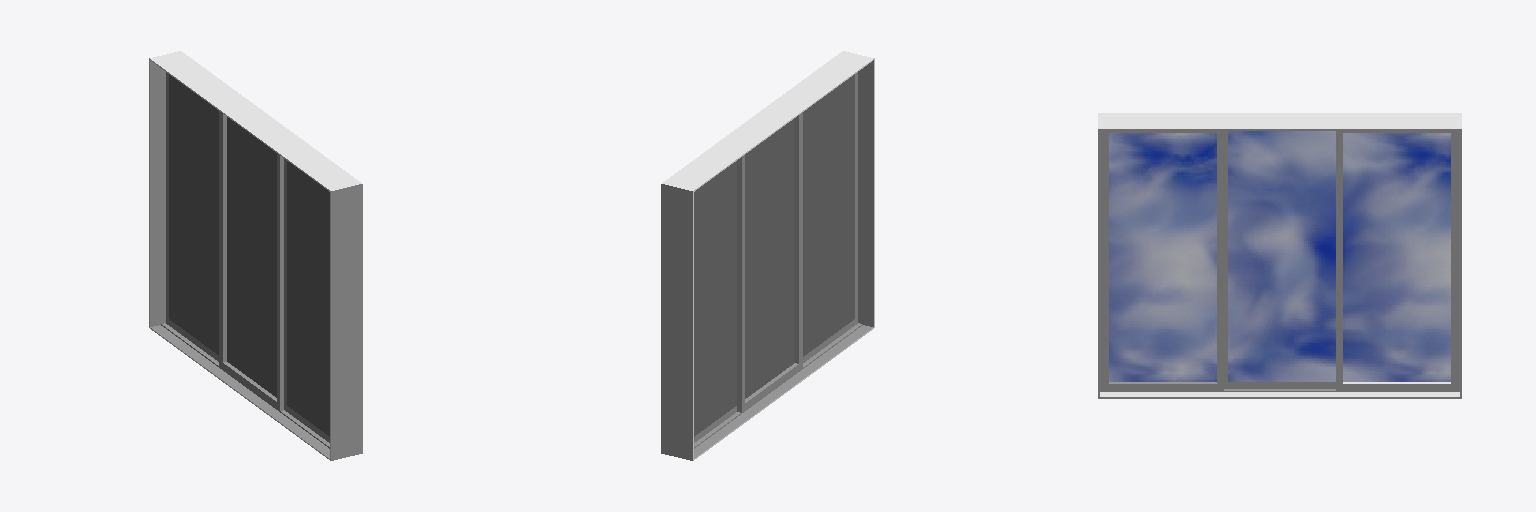
The picture shows the model from 3 angles: view 1: azimuth 30°, elevation 25°; view 2: azimuth 150°, elevation 25°; view 3: azimuth 270°, elevation 25°; orthographic projection.
Visible parts, largest first — view 1: Mesh1 Model; view 2: Mesh1 Model; view 3: Mesh1 Model.
Boxes of the visible parts, <box> form: Mesh1 Model: <box>149,51,362,460</box>; Mesh1 Model: <box>661,51,874,460</box>; Mesh1 Model: <box>1098,113,1461,398</box>.
Size of the model in its own units: 9.84 by 80.71 by 98.43.
4 materials, 1 textured.